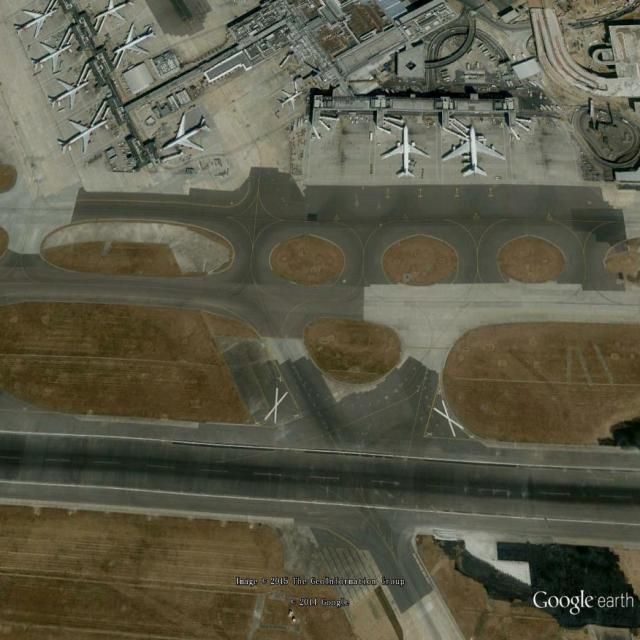aircraft: (440, 123, 509, 182), (378, 122, 435, 181), (158, 110, 216, 158), (57, 117, 112, 159), (112, 19, 160, 62), (13, 5, 61, 43), (28, 40, 74, 76), (47, 76, 93, 111), (93, 2, 134, 22)
